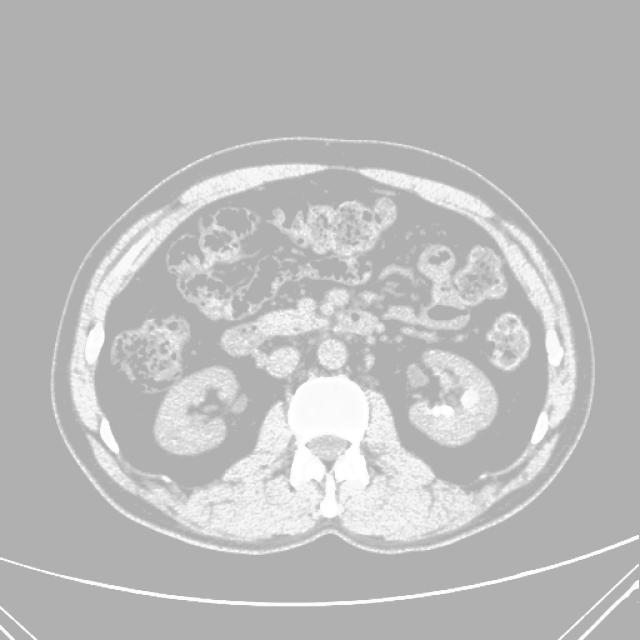STONE: (139, 273, 529, 452)
